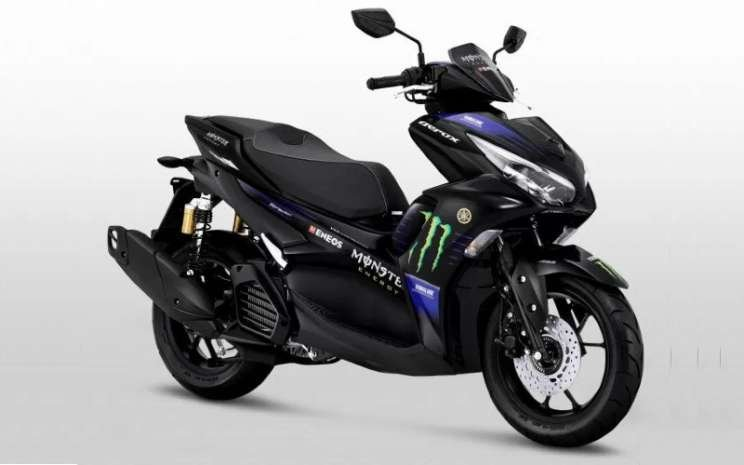motor: (79, 24, 692, 465)
